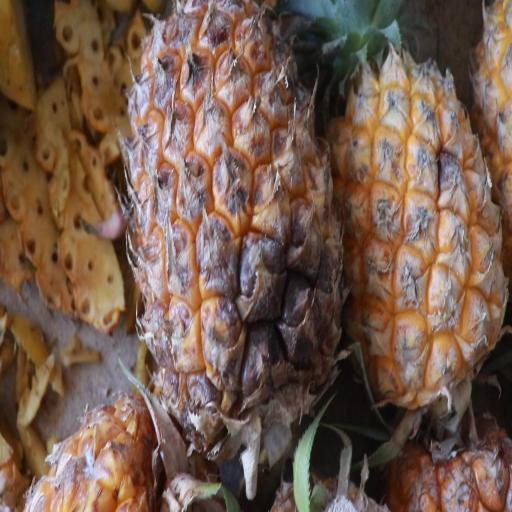Pineapple - v8 v1: (135, 0, 356, 438), (323, 0, 510, 416)
